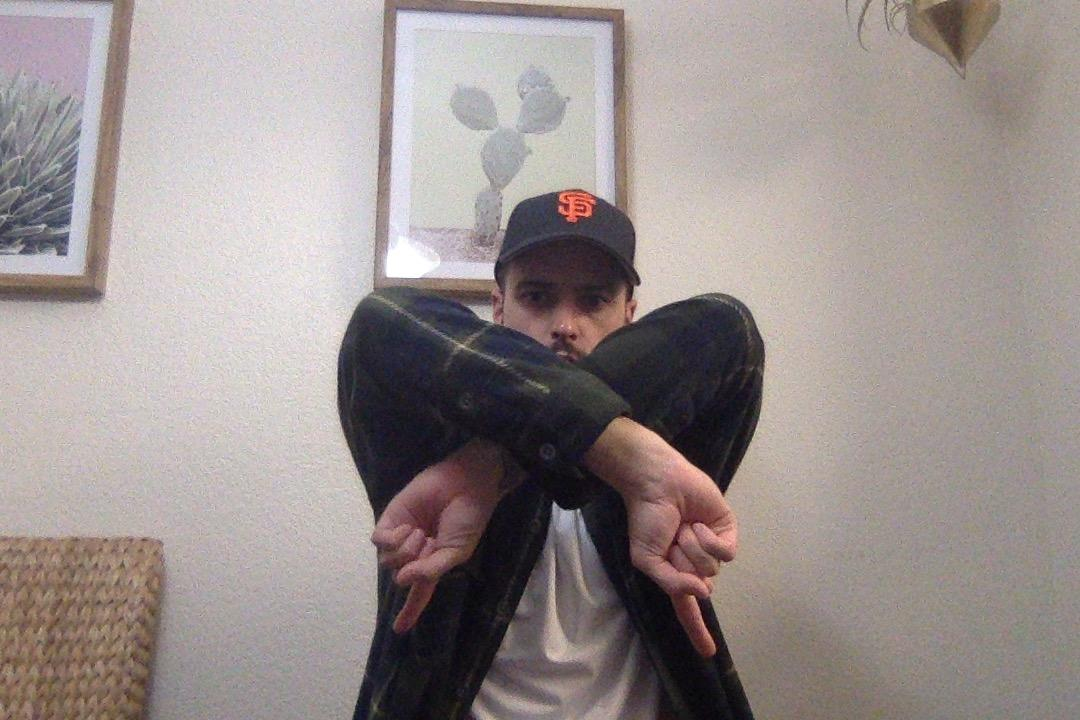Point-Down: (582, 427, 746, 674), (367, 443, 509, 644)
